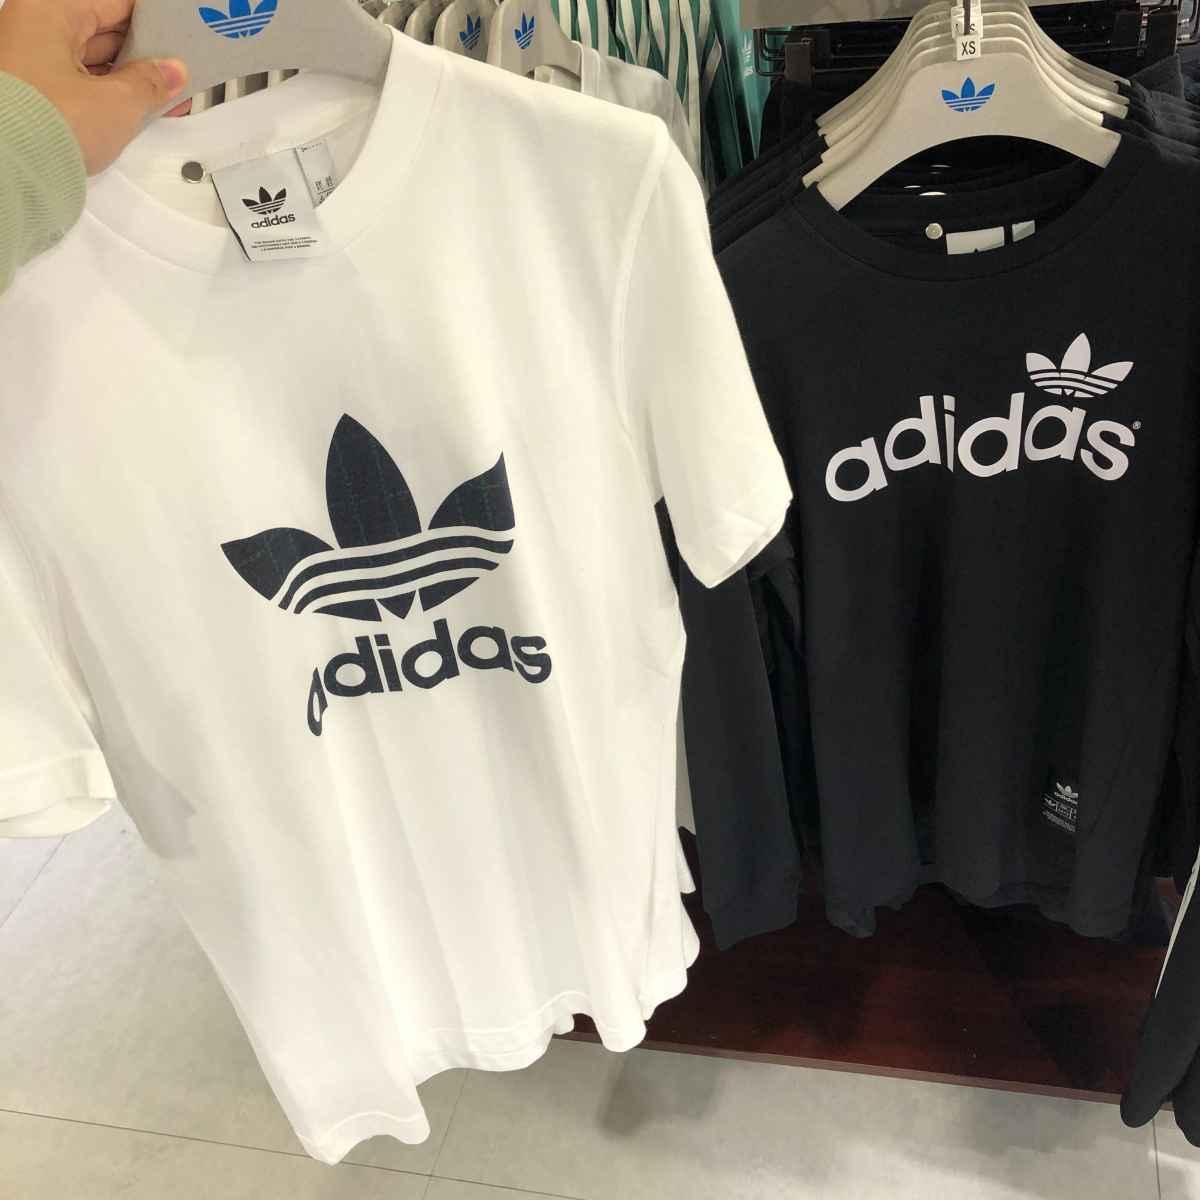Tshirt: (0, 33, 744, 1187), (707, 130, 1200, 952)
